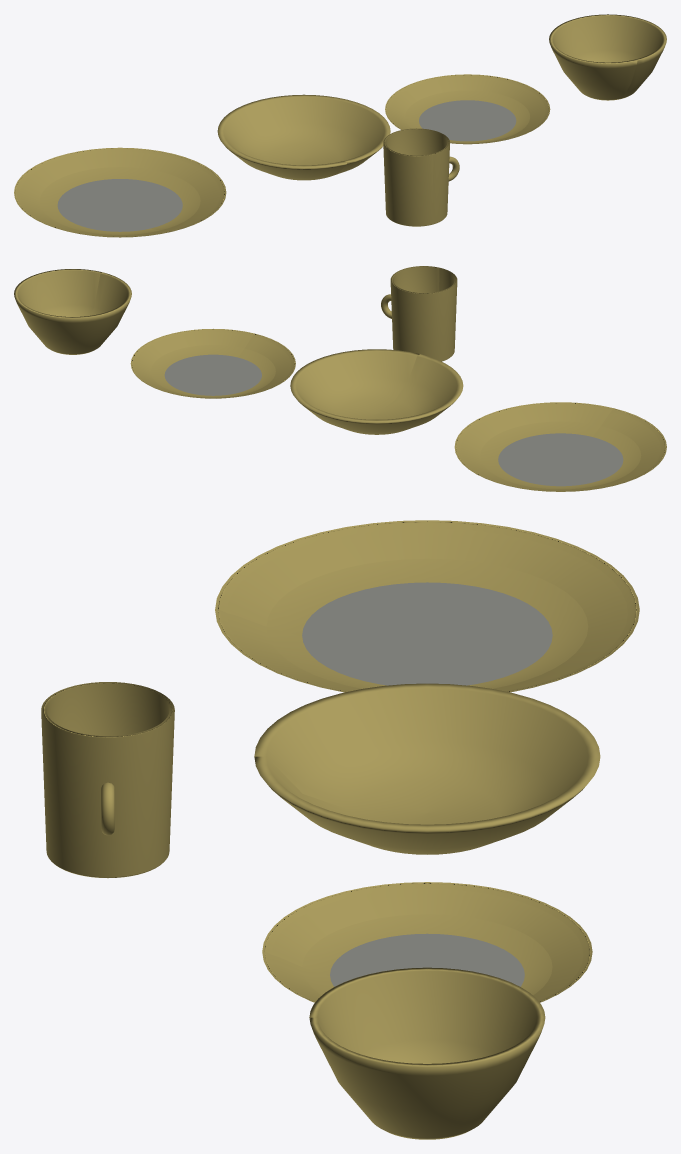
3 views of the same model, one above another, from view 1: azimuth 30°, elevation 25°; view 2: azimuth 150°, elevation 25°; view 3: azimuth 270°, elevation 25° (orthographic). The views are drawn at different scales.
Bounding box in the file's own units: 0.926 × 0.1 × 0.3805.
